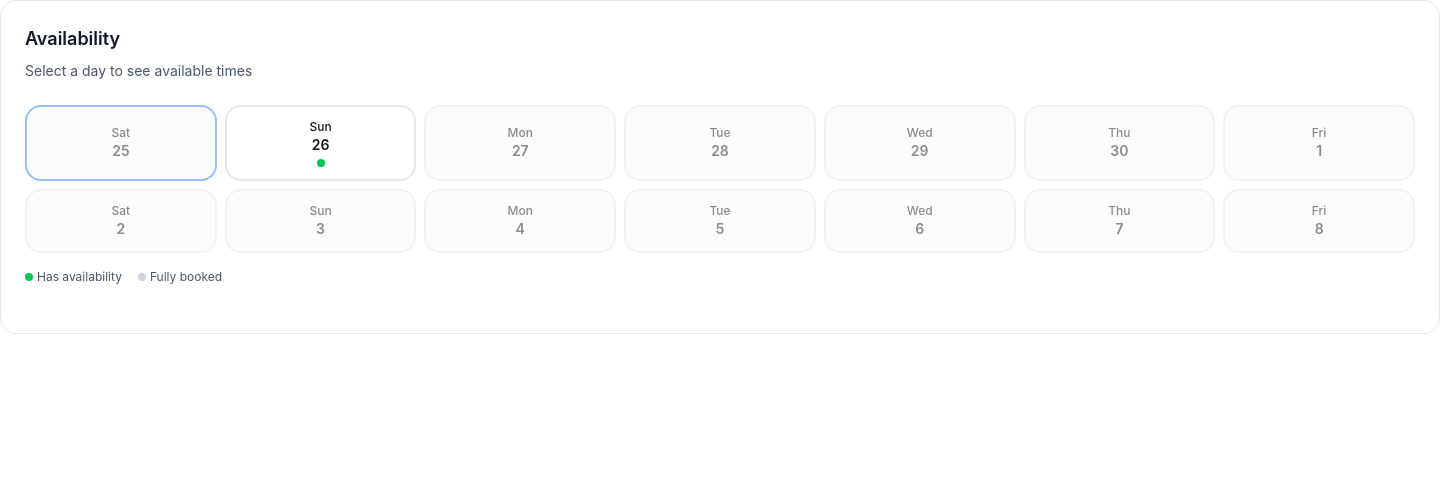
Test: AvailabilityCalendar › groupSlotsByTimeOfDay with missing hour part › filters out slots with empty start_time in grouping
Click the button "Sun 26" at point(321, 143), box [225,105,416,181]
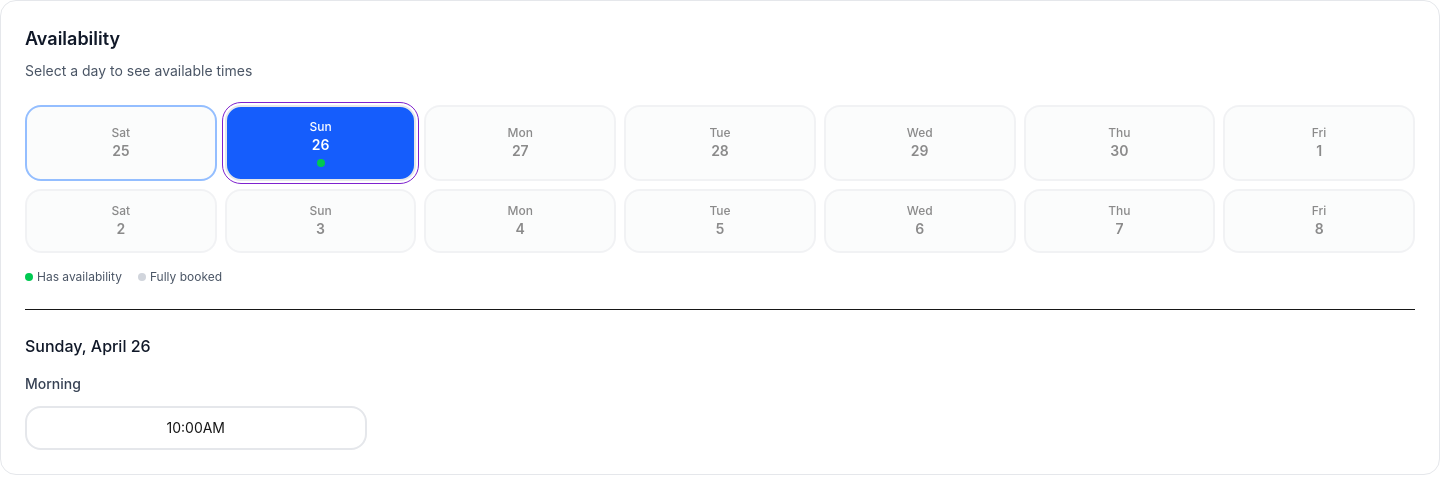
Expected: the heading "Morning" is shown, [25,375,81,392]
Expected: the button "10:00AM" is shown, [25,406,366,450]
